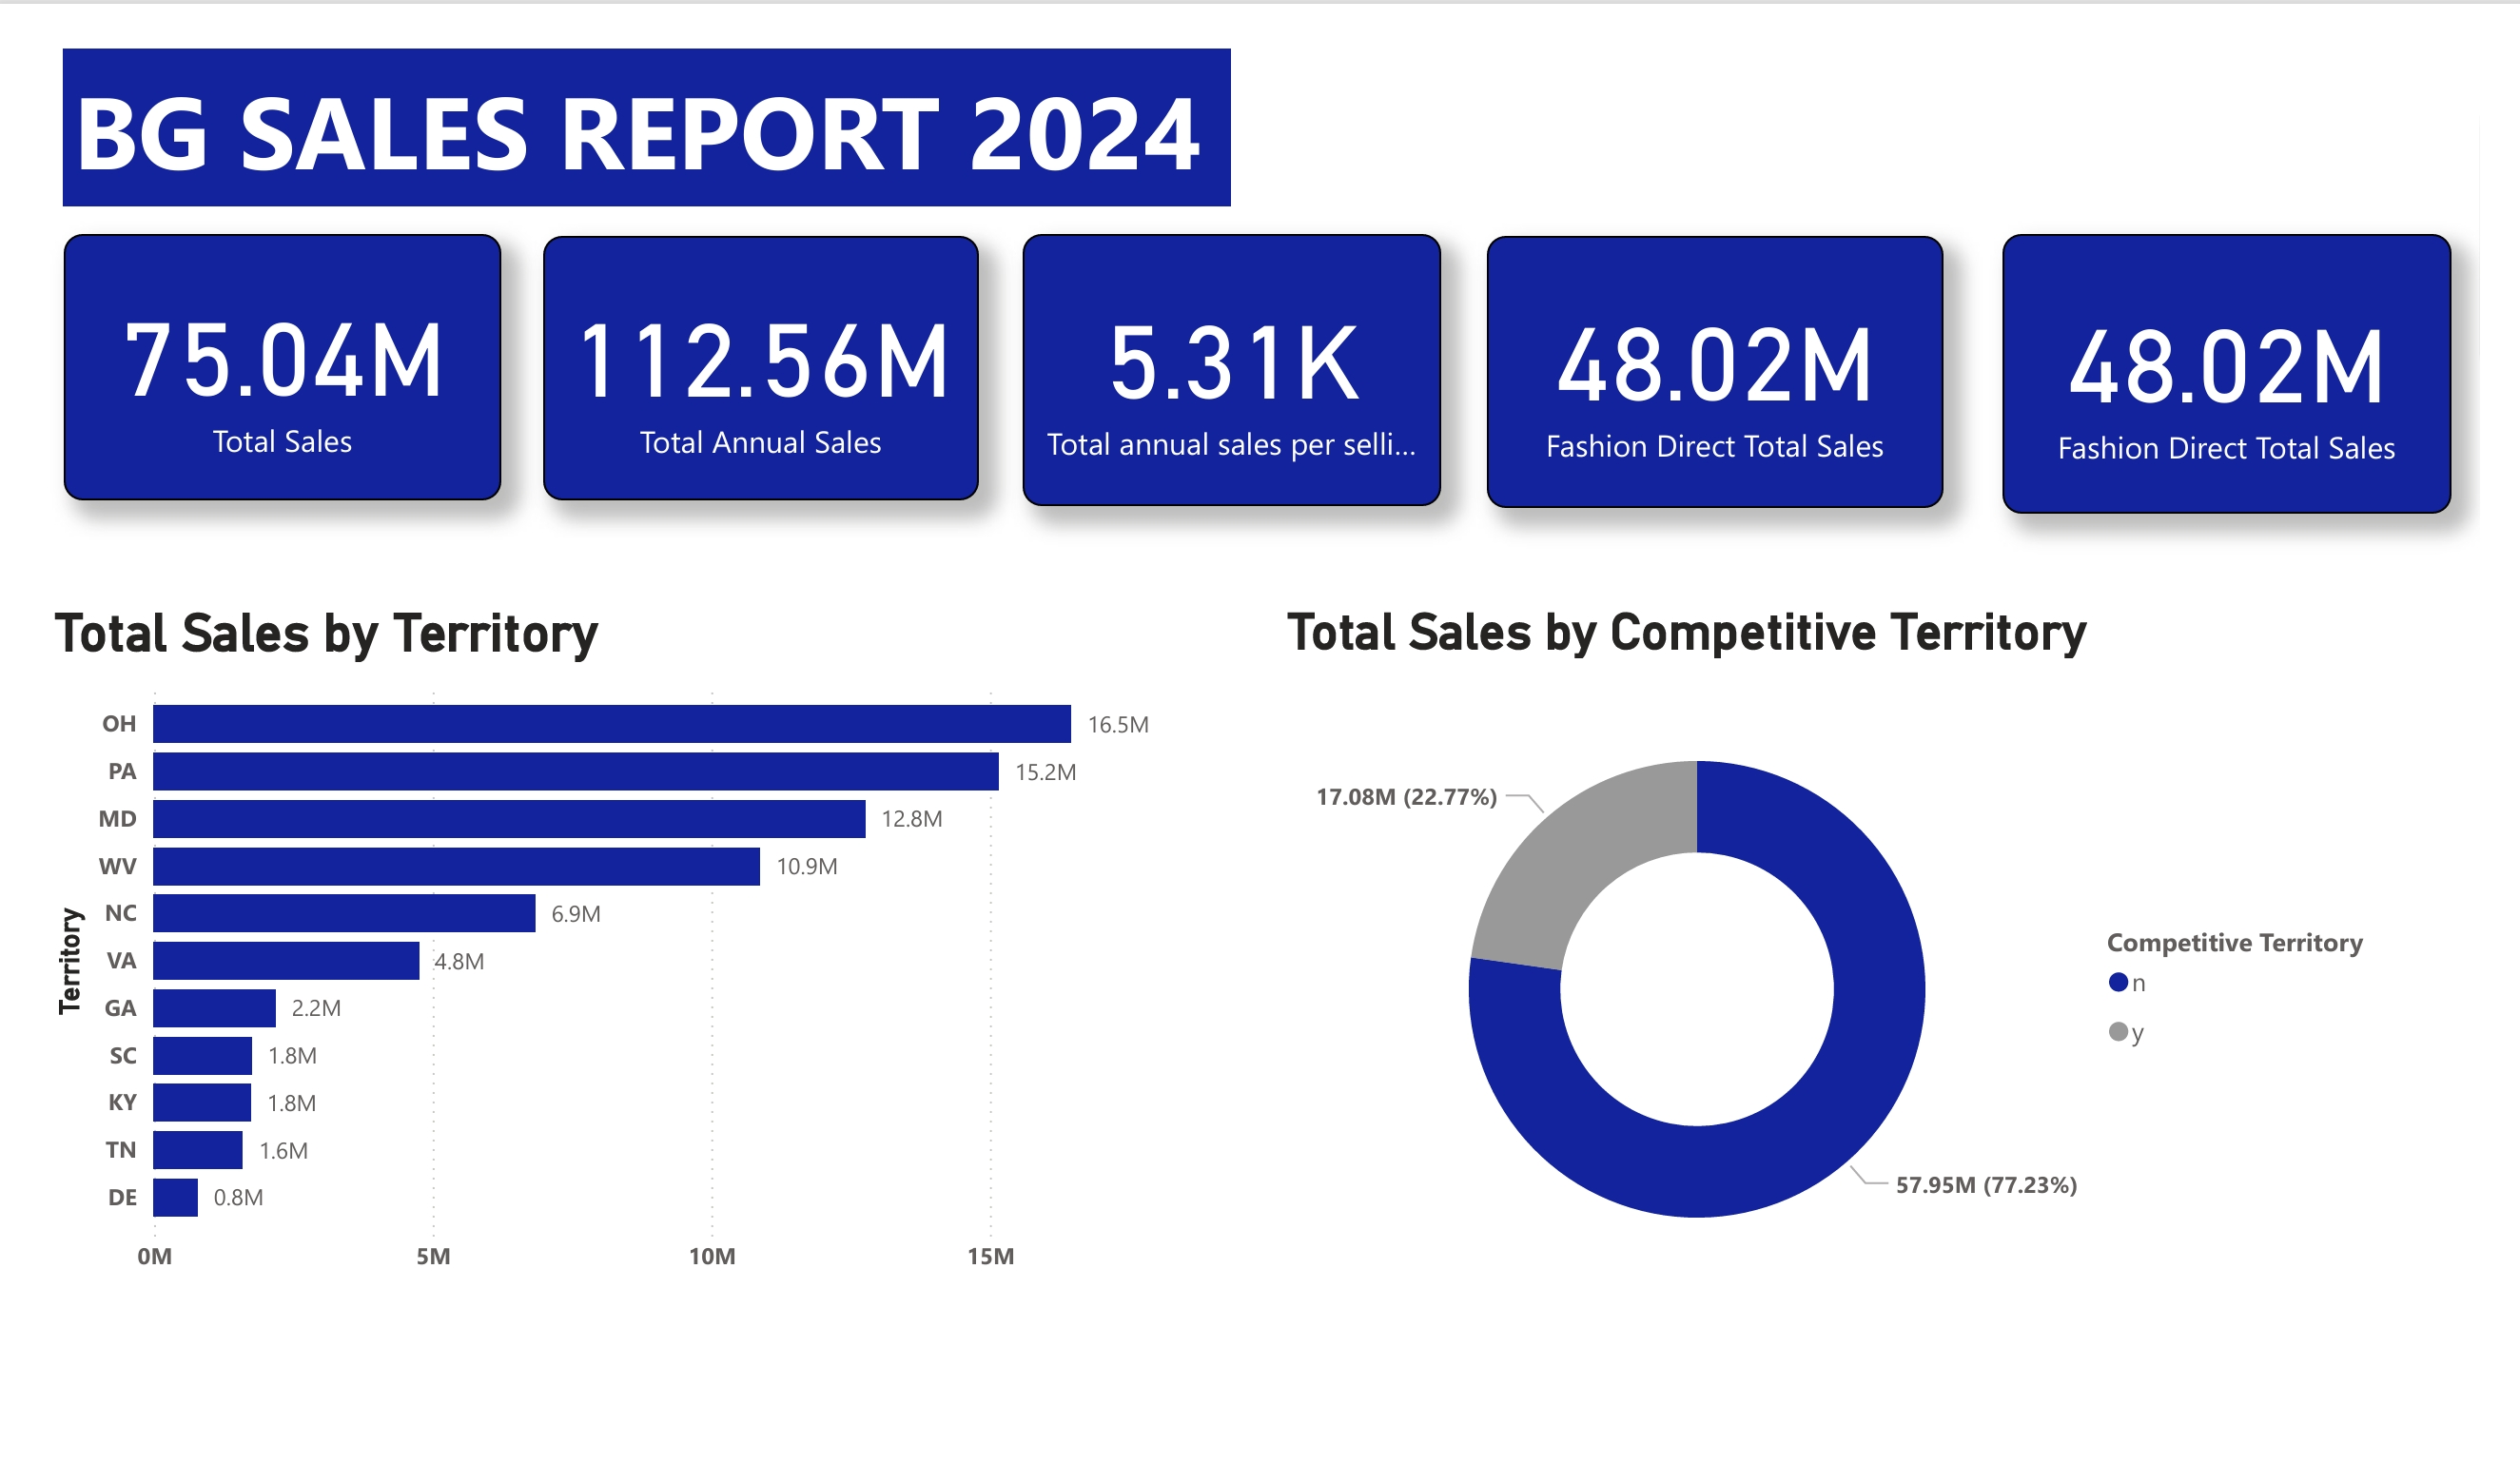

This screenshot's page, from the dashboard's own definition file:
{"tool":"powerbi","page":{"name":"General overview","canvas":[1280,720],"ordinal":1},"visuals":[{"type":"textbox","box":[10.5,0,613.2,82.6],"z":0},{"type":"card","fields":{"Values":["Table 1 (Names).Total Sales"]},"box":[10.5,96.6,229.2,140.8],"z":1000},{"type":"card","fields":{"Values":["Table 1 (Names).Total Annual Sales"]},"box":[261.8,97.7,229.2,139.6],"z":2000},{"type":"card","fields":{"Values":["Table 1 (Names).Fashion Direct Total Sales"]},"box":[757.5,97.7,240.9,143.1],"z":3000},{"type":"card","fields":{"Values":["Table 1 (Names).Total annual sales per selling area"]},"box":[514.3,96.6,219.9,143.1],"z":4000},{"type":"barChart","fields":{"Category":["Table 3 (Competitive Territory).Territory"],"Y":["Table 1 (Names).Total Sales"]},"box":[0,289.7,605.1,361.9],"z":5000},{"type":"card","fields":{"Values":["Table 1 (Names).Fashion Direct Total Sales"]},"box":[1028.7,96.6,236.2,147.8],"z":6000},{"type":"donutChart","fields":{"Category":["Table 1 (Names).Competitive Territory"],"Y":["Table 1 (Names).Total Sales"]},"box":[648.1,289.7,586.5,378.2],"z":7000}]}

Visuals, with their boxes on the page's 1280x720 design canvas (x1, y1, x2, y2). These are canvas units, not pixel positions in the 2520x1464 screenshot, which may show the page scaled, cropped or inside an application window:
textbox: bbox=(10, 0, 624, 83)
card - Table 1 (Names).Total Sales: bbox=(10, 97, 240, 237)
card - Table 1 (Names).Total Annual Sales: bbox=(262, 98, 491, 237)
card - Table 1 (Names).Fashion Direct Total Sales: bbox=(758, 98, 998, 241)
card - Table 1 (Names).Total annual sales per selling area: bbox=(514, 97, 734, 240)
barChart - Table 3 (Competitive Territory).Territory x Table 1 (Names).Total Sales: bbox=(0, 290, 605, 652)
card - Table 1 (Names).Fashion Direct Total Sales: bbox=(1029, 97, 1265, 244)
donutChart - Table 1 (Names).Competitive Territory x Table 1 (Names).Total Sales: bbox=(648, 290, 1235, 668)
